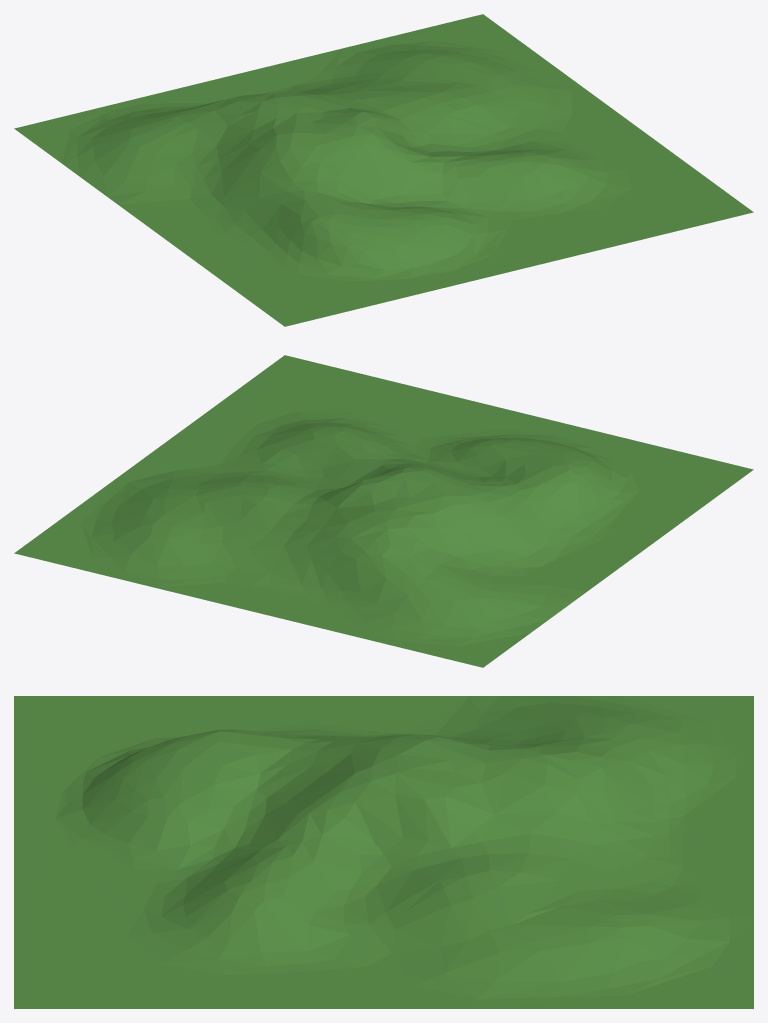
The model's file is Landscape_07.fbx.
3 views of the same model, one above another, from view 1: azimuth 30°, elevation 25°; view 2: azimuth 150°, elevation 25°; view 3: azimuth 270°, elevation 25° (orthographic). The views are drawn at different scales.
Visible parts, largest first — view 1: Landscape_07; view 2: Landscape_07; view 3: Landscape_07.
Boxes of the visible parts, bbox=[...] form: Landscape_07: bbox=[14, 14, 753, 326]; Landscape_07: bbox=[14, 355, 753, 667]; Landscape_07: bbox=[14, 696, 753, 1008].
Size of the model in its own units: 5000 by 480 by 5000.
